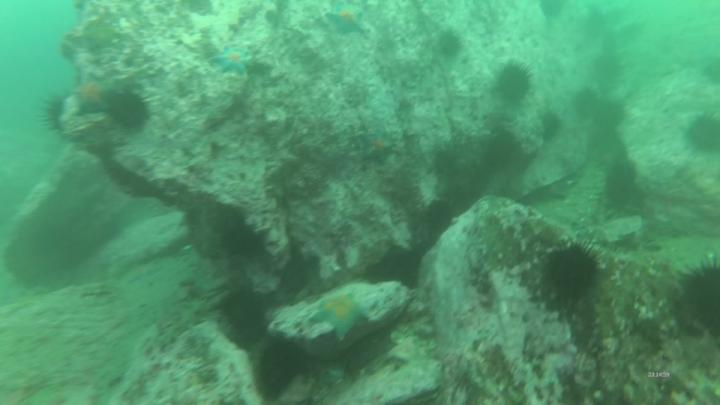echinus: (538, 236, 605, 306), (671, 255, 720, 340), (256, 341, 306, 400), (221, 283, 265, 339), (108, 87, 155, 132), (216, 211, 259, 259), (601, 160, 642, 209), (496, 59, 535, 105), (482, 129, 519, 176), (684, 112, 720, 160), (278, 253, 310, 296), (569, 82, 602, 123), (37, 90, 67, 135), (426, 196, 454, 235)
starfish: (315, 294, 369, 345), (326, 3, 371, 40), (70, 81, 115, 117), (213, 45, 254, 78), (360, 128, 398, 163)
